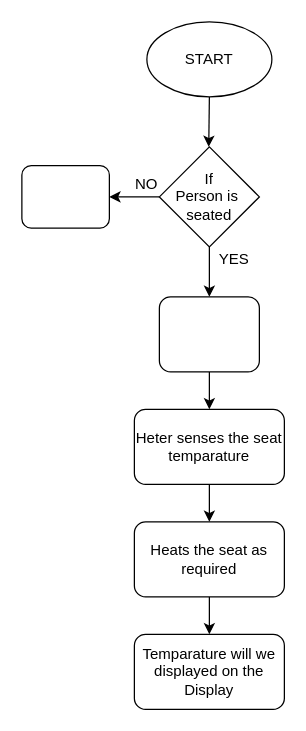
The diagram is 306 pixels wide and 731 high, and some of its shapes have lost their labels. Here are the shapes that lost their labels. From the top down, the centre of each, then its label:
At (x=65, y=196): "Heater remain OFF".
At (x=208, y=334): "Heater gets ON".
